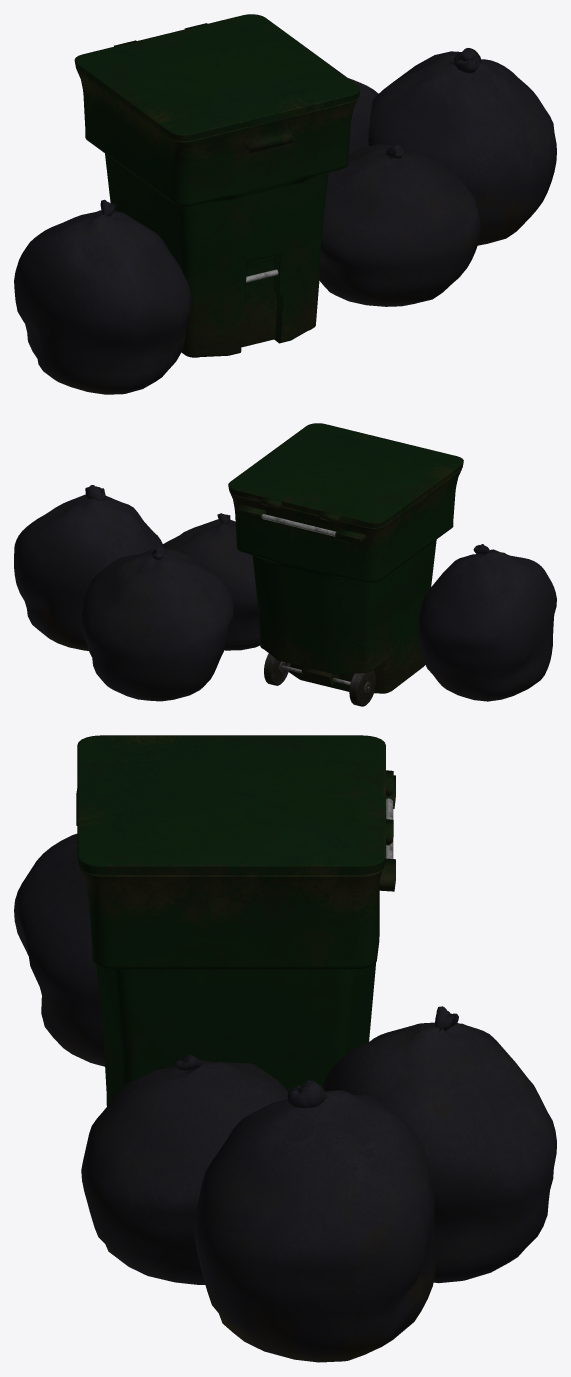
3 renders of one model, top to bottom at view 1: azimuth 30°, elevation 25°; view 2: azimuth 150°, elevation 25°; view 3: azimuth 270°, elevation 25°, orthographic. The views are drawn at different scales.
Visible parts, largest first — view 1: Cube, Trashbag LP.002, CAGE, Trashbag LP, Trashbag LP.001; view 2: Cube, Trashbag LP.001, Trashbag LP.002, CAGE, Trashbag LP; view 3: Cube, CAGE, Trashbag LP.001, Trashbag LP, Trashbag LP.002.
Boxes of the visible parts, <box> form: Cube: <box>74,14,360,357</box>; Trashbag LP.002: <box>14,199,191,394</box>; CAGE: <box>368,48,556,245</box>; Trashbag LP: <box>319,144,480,306</box>; Trashbag LP.001: <box>348,78,378,154</box>; Cube: <box>228,423,463,706</box>; Trashbag LP.001: <box>80,546,233,701</box>; Trashbag LP.002: <box>418,544,556,701</box>; CAGE: <box>14,485,163,650</box>; Trashbag LP: <box>162,513,259,650</box>; Cube: <box>76,735,395,1105</box>; CAGE: <box>194,1080,436,1362</box>; Trashbag LP.001: <box>322,1006,556,1283</box>; Trashbag LP: <box>81,1054,288,1284</box>; Trashbag LP.002: <box>14,833,104,1066</box>.
Bounding box in the file's own units: 656 × 277 × 383.
Materials: 5 (5 with a texture image).
